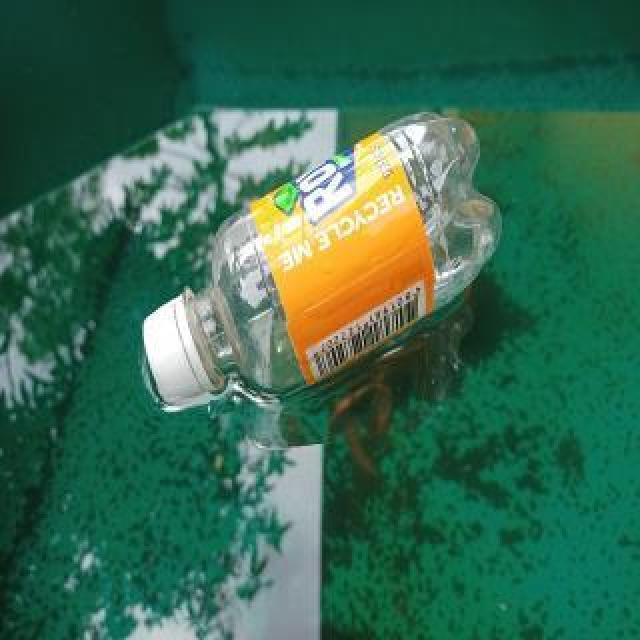bottle: (132, 105, 506, 419)
